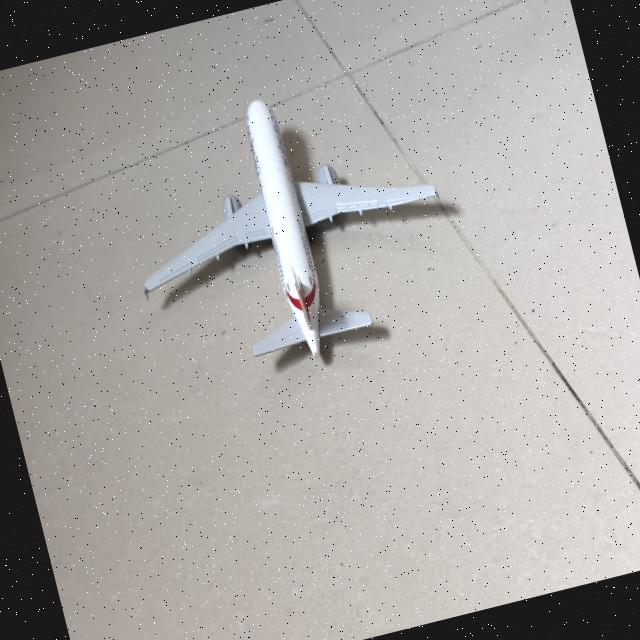air-plane: (144, 100, 437, 356)
